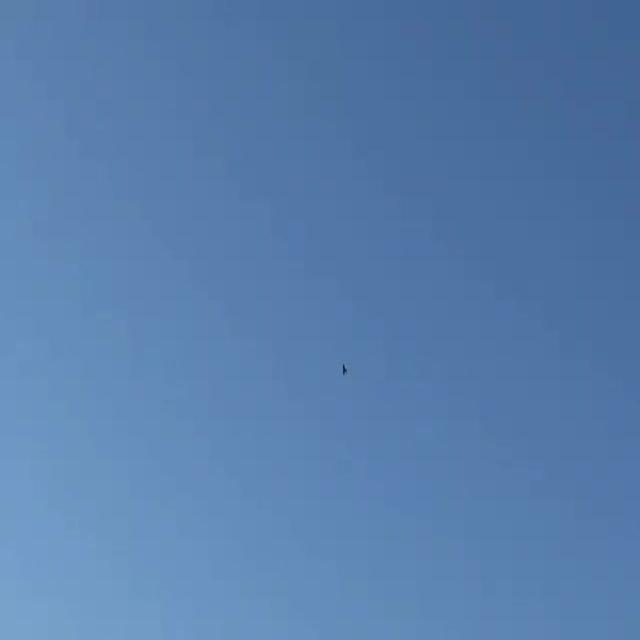bird: (339, 362, 352, 378)
